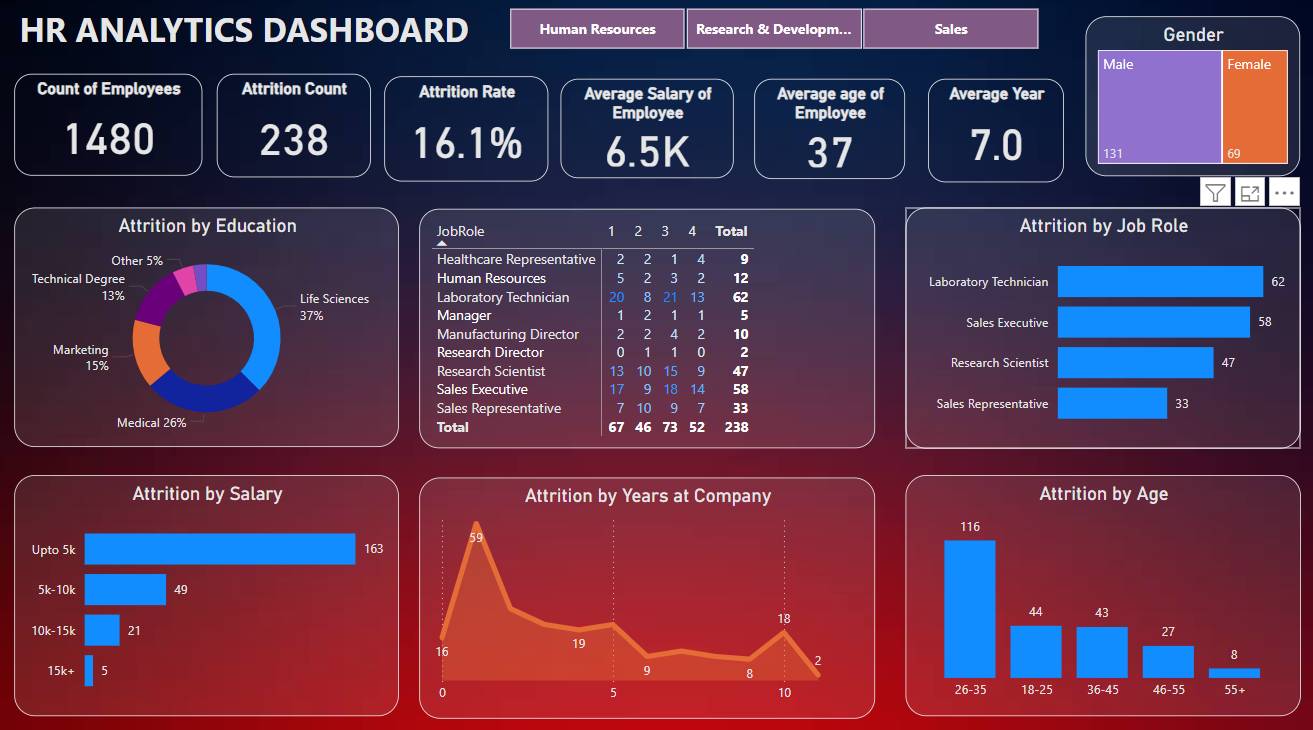

The page's visual inventory and layout, read from the dashboard file:
{"tool":"powerbi","page":{"name":"Page 1","canvas":[1280,720],"ordinal":0},"visuals":[{"type":"card","title":"Count of Employees","fields":{"Values":["CountNonNull(HR_Analytics.EmpID)"]},"box":[15.7,81.4,181.4,98.6],"z":0},{"type":"card","title":"Attrition Count","fields":{"Values":["Sum(HR_Analytics.AttritionCount)"]},"box":[211.4,81.4,148.6,100],"z":1000},{"type":"card","title":"Attrition Rate","fields":{"Values":["HR_Analytics.AttritionRate"]},"box":[372.9,82.9,158.6,101.4],"z":2000},{"type":"card","title":"Average age of Employee","fields":{"Values":["Avg(HR_Analytics.Age)"]},"box":[730,85.7,145.7,97.1],"z":3000},{"type":"card","title":"Average Salary of Employee","fields":{"Values":["Avg(HR_Analytics.MonthlyIncome)"]},"box":[542.9,85.7,167.1,95.7],"z":4000},{"type":"card","title":"Average Year","fields":{"Values":["Avg(HR_Analytics.YearsAtCompany)"]},"box":[897.1,85.7,131.4,100],"z":5000},{"type":"donutChart","title":"Attrition by Education","fields":{"Category":["HR_Analytics.EducationField"],"Y":["Sum(HR_Analytics.AttritionCount)"]},"box":[15.7,210,371.4,231.4],"z":6000},{"type":"columnChart","title":"Attrition by Age","fields":{"Category":["HR_Analytics.AgeGroup"],"Y":["Sum(HR_Analytics.AttritionCount)"]},"box":[875.7,468.6,381.4,232.9],"z":7000},{"type":"pivotTable","title":"Job S","fields":{"Rows":["HR_Analytics.JobRole"],"Columns":["HR_Analytics.JobSatisfaction"],"Values":["Sum(HR_Analytics.AttritionCount)"]},"box":[407.1,211.4,440,231.4],"z":8000},{"type":"barChart","title":"Attrition by Salary","fields":{"Category":["HR_Analytics.SalarySlab"],"Y":["Sum(HR_Analytics.AttritionCount)"]},"box":[15.7,468.6,371.4,232.9],"z":9000},{"type":"barChart","title":"Attrition by Job Role","fields":{"Category":["HR_Analytics.JobRole"],"Y":["Sum(HR_Analytics.AttritionCount)"]},"box":[875.7,210,381.4,232.9],"z":10000},{"type":"areaChart","title":"Attrition by Years at Company","fields":{"Category":["HR_Analytics.YearsAtCompany"],"Y":["Sum(HR_Analytics.AttritionCount)"]},"box":[407.1,470,440,232.9],"z":11000},{"type":"treemap","title":"Gender","fields":{"Group":["HR_Analytics.Gender"],"Values":["Sum(HR_Analytics.AttritionCount)"]},"box":[1050,25.7,207.1,154.3],"z":12000},{"type":"slicer","fields":{"Values":["HR_Analytics.Department"]},"box":[468.6,11.4,560,52.9],"z":13000},{"type":"textbox","box":[15.7,11.4,452.9,52.9],"z":14000}]}

Visuals, with their boxes in screenshot pixels (x1, y1, x2, y2), scaled from the page's 1280x720 canvas onto the 1313x730 screenshot:
"Count of Employees" card: <bbox>16, 83, 202, 182</bbox>
"Attrition Count" card: <bbox>217, 83, 369, 184</bbox>
"Attrition Rate" card: <bbox>383, 84, 545, 187</bbox>
"Average age of Employee" card: <bbox>749, 87, 898, 185</bbox>
"Average Salary of Employee" card: <bbox>557, 87, 728, 184</bbox>
"Average Year" card: <bbox>920, 87, 1055, 188</bbox>
"Attrition by Education" donutChart: <bbox>16, 213, 397, 448</bbox>
"Attrition by Age" columnChart: <bbox>898, 475, 1290, 711</bbox>
"Job S" pivotTable: <bbox>418, 214, 869, 449</bbox>
"Attrition by Salary" barChart: <bbox>16, 475, 397, 711</bbox>
"Attrition by Job Role" barChart: <bbox>898, 213, 1290, 449</bbox>
"Attrition by Years at Company" areaChart: <bbox>418, 477, 869, 713</bbox>
"Gender" treemap: <bbox>1077, 26, 1290, 182</bbox>
slicer - HR_Analytics.Department: <bbox>481, 12, 1055, 65</bbox>
textbox: <bbox>16, 12, 481, 65</bbox>
